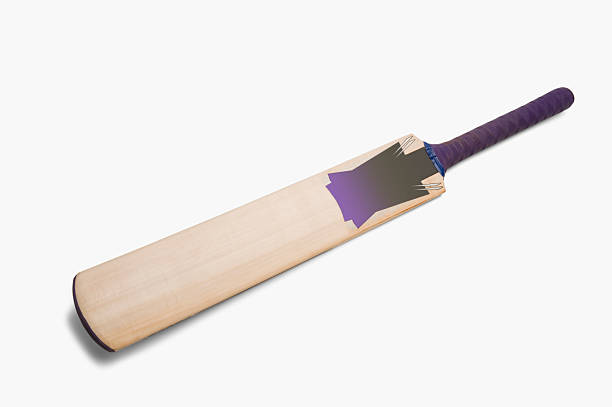bottom left: (65, 262, 93, 290)
bottom right: (89, 334, 123, 368)
top left: (398, 121, 426, 149)
top right: (424, 174, 459, 209)
